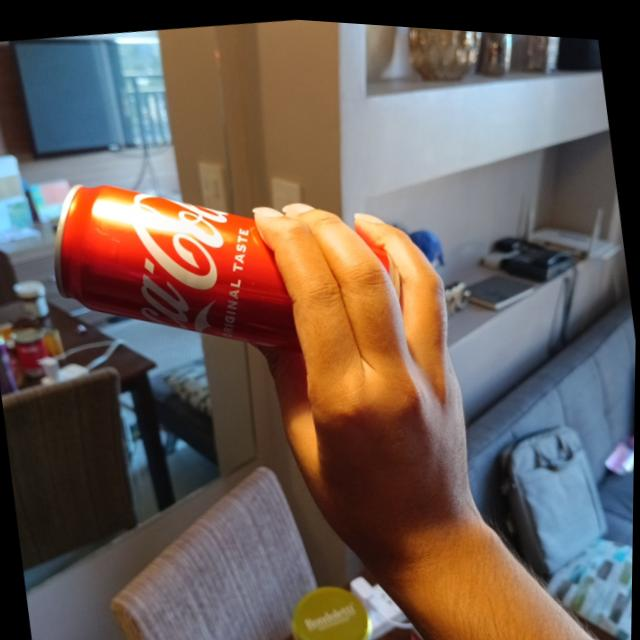coke: (45, 153, 304, 381)
